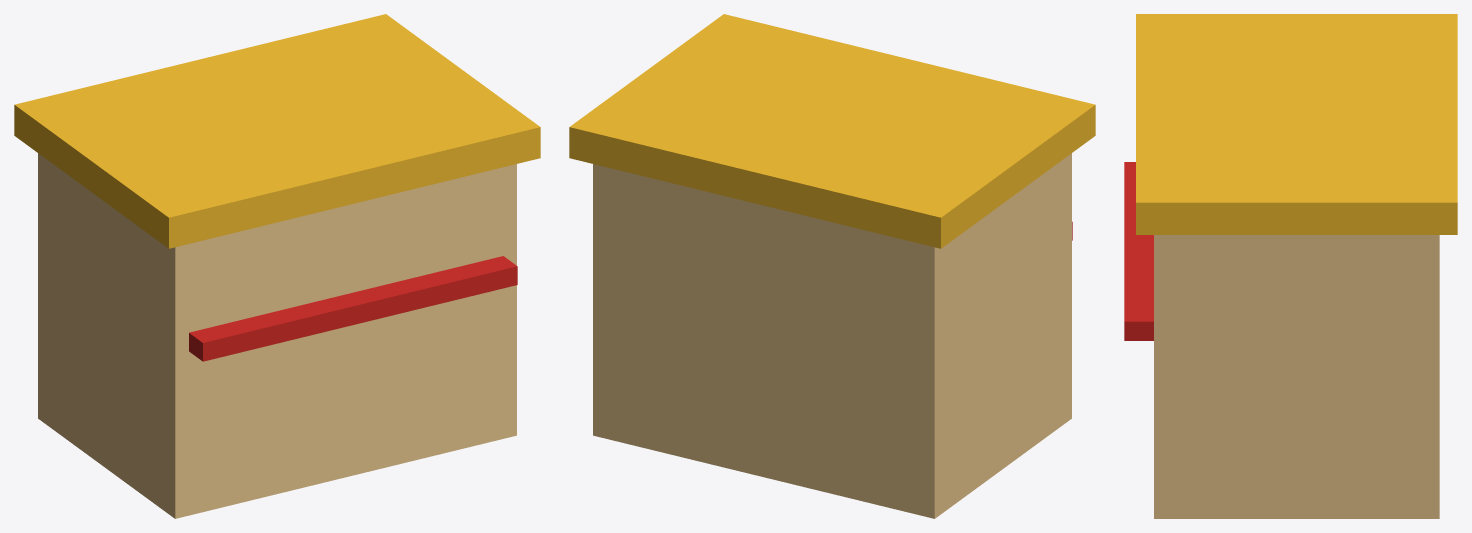
Rendered from fast_food.dae.
The picture shows the model from 3 angles, left to right: view 1: azimuth 30°, elevation 25°; view 2: azimuth 150°, elevation 25°; view 3: azimuth 270°, elevation 25°; orthographic projection. The views are drawn at different scales.
Parts seen in each view (by area): view 1: main, roof, canopy; view 2: main, roof; view 3: main, roof, canopy.
Boxes of the visible parts, box(x1,y1,x2,y2) form: main: box(38, 153, 516, 518); roof: box(14, 14, 540, 248); canopy: box(189, 256, 517, 361); main: box(593, 153, 1071, 518); roof: box(569, 14, 1095, 248); main: box(1154, 235, 1439, 518); roof: box(1136, 14, 1457, 234); canopy: box(1124, 162, 1153, 340).
Size of the model in its own units: 5 by 3.73 by 4.
